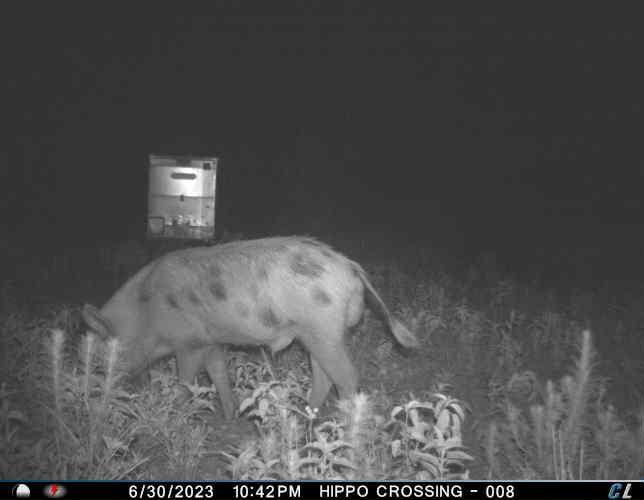Hog: (80, 233, 419, 426)
